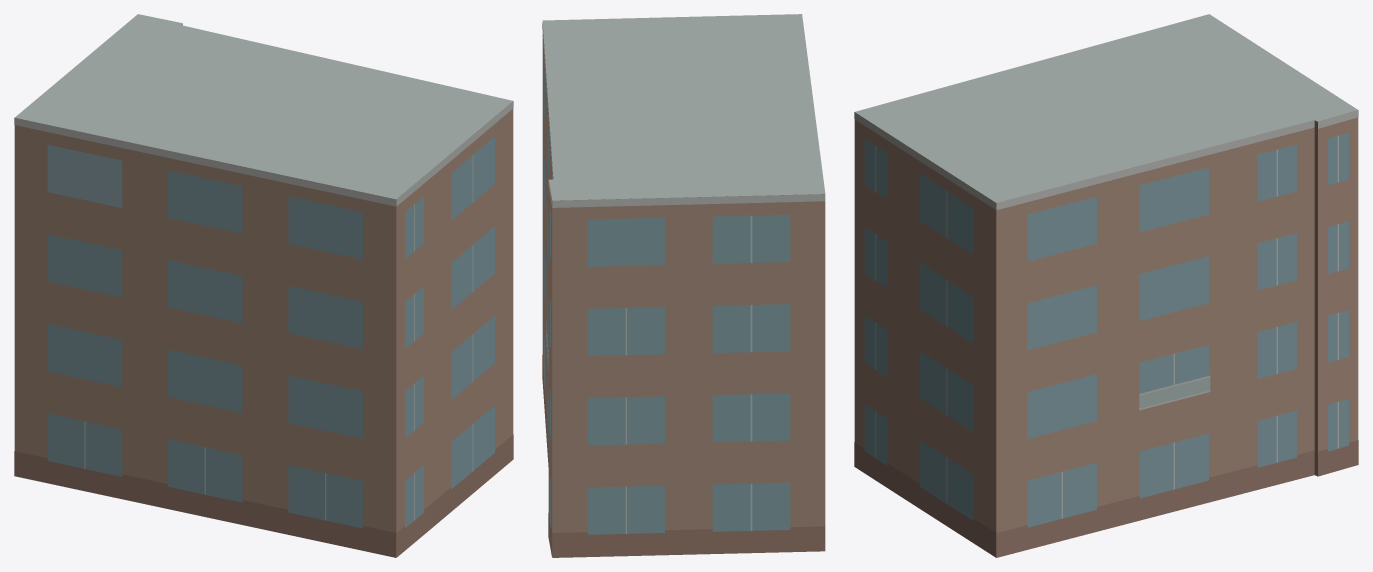
Rendered from survey-upis-32625527.glb.
3 renders of one model, left to right at view 1: azimuth 30°, elevation 25°; view 2: azimuth 150°, elevation 25°; view 3: azimuth 270°, elevation 25°, orthographic.
Parts seen in each view (by area): view 1: survey-upis-32625527.tmp; view 2: survey-upis-32625527.tmp; view 3: survey-upis-32625527.tmp.
Boxes of the visible parts, x1,y1,x2,y2 form: survey-upis-32625527.tmp: [14, 14, 513, 557]; survey-upis-32625527.tmp: [542, 14, 825, 557]; survey-upis-32625527.tmp: [854, 14, 1358, 557].
Bounding box in the file's own units: 13.72 × 12 × 15.46.
